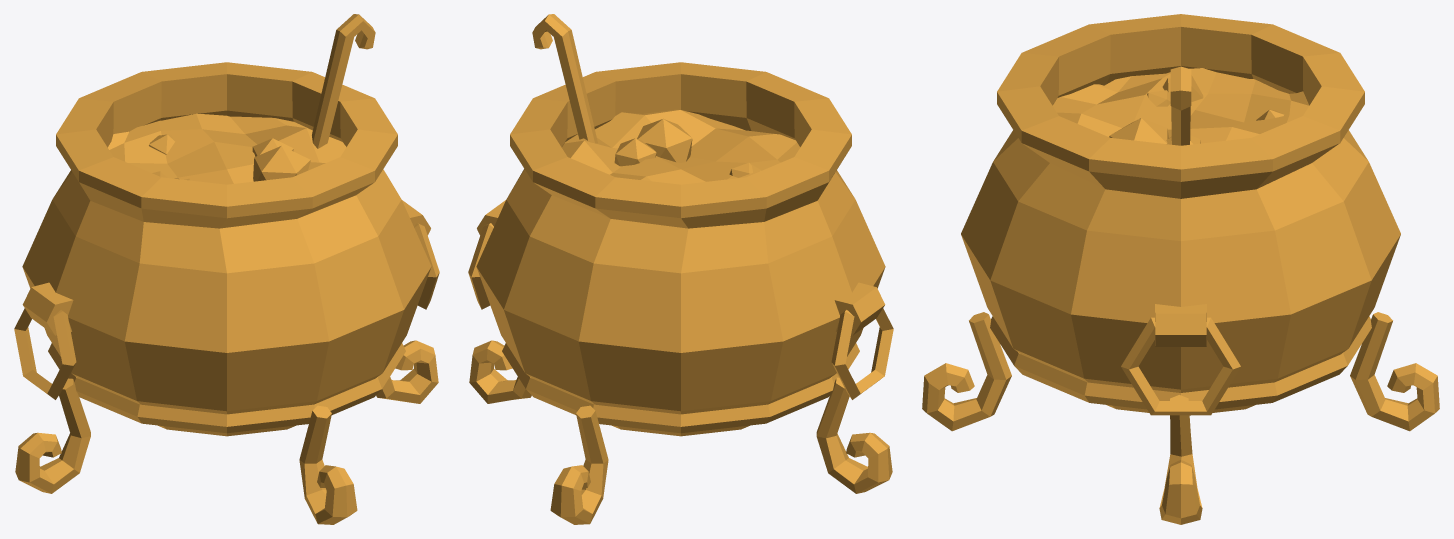
The model's file is cauldron-potion-full.fbx.
The picture shows the model from 3 angles, left to right: view 1: azimuth 30°, elevation 25°; view 2: azimuth 150°, elevation 25°; view 3: azimuth 270°, elevation 25°; orthographic projection. The views are drawn at different scales.
Visible parts, largest first — view 1: cauldron-potion-full; view 2: cauldron-potion-full; view 3: cauldron-potion-full.
Boxes of the visible parts, x1,y1,x2,y2 form: cauldron-potion-full: (14, 14, 439, 524); cauldron-potion-full: (468, 14, 893, 524); cauldron-potion-full: (922, 14, 1439, 524).
Size of the model in its own units: 0.7944 by 0.7293 by 0.7944.
